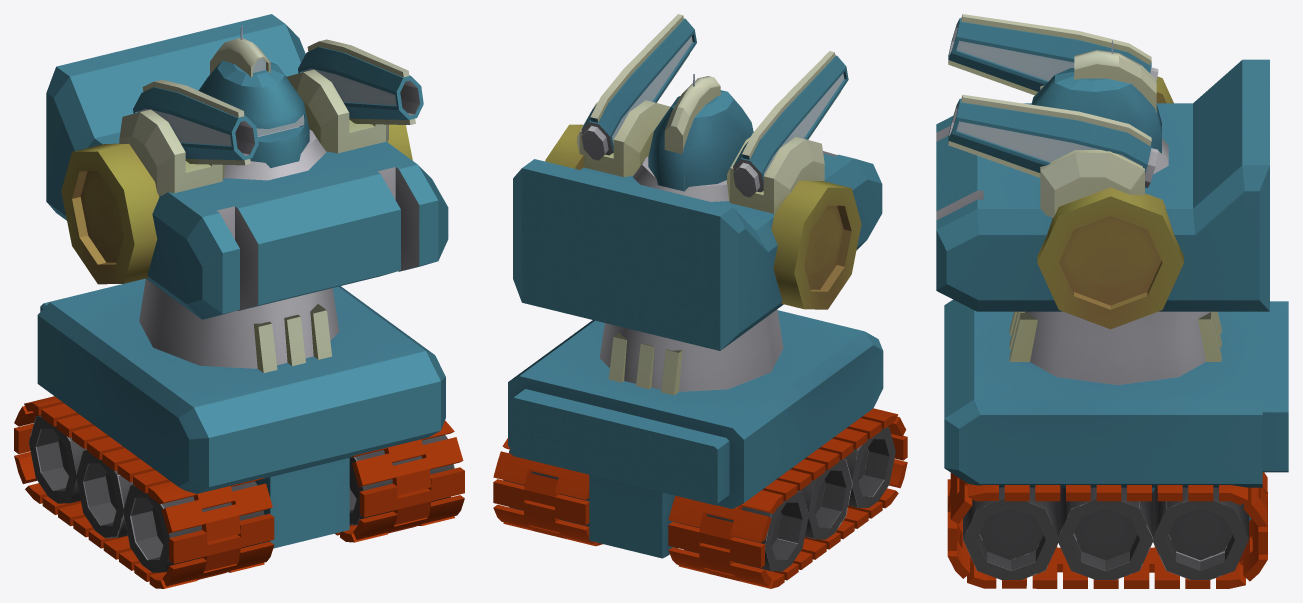
The model's file is player_idle4.obj.
3 views of the same model, side by side, from view 1: azimuth 30°, elevation 25°; view 2: azimuth 150°, elevation 25°; view 3: azimuth 270°, elevation 25° (orthographic). The views are drawn at different scales.
Parts seen in each view (by area): view 1: Object004, Box038, Object012, Object011, Box042; view 2: Object004, Box038, Object012, Object011, Box042; view 3: Object004, Object011, Object012, Box042.
Part boxes in pixels (<box>): Object004: <box>37,14,448,548</box>; Box038: <box>14,396,274,588</box>; Object012: <box>133,39,423,165</box>; Object011: <box>28,415,454,572</box>; Box042: <box>335,420,464,542</box>; Object004: <box>508,76,883,558</box>; Box038: <box>668,408,907,588</box>; Object012: <box>581,14,848,197</box>; Object011: <box>503,427,895,571</box>; Box042: <box>493,438,602,546</box>; Object004: <box>936,50,1288,520</box>; Object011: <box>963,487,1248,579</box>; Object012: <box>948,14,1158,187</box>; Box042: <box>947,472,1267,588</box>.
Bounding box in the file's own units: 110 × 173 × 115.
Materials: 3 (1 with a texture image).
